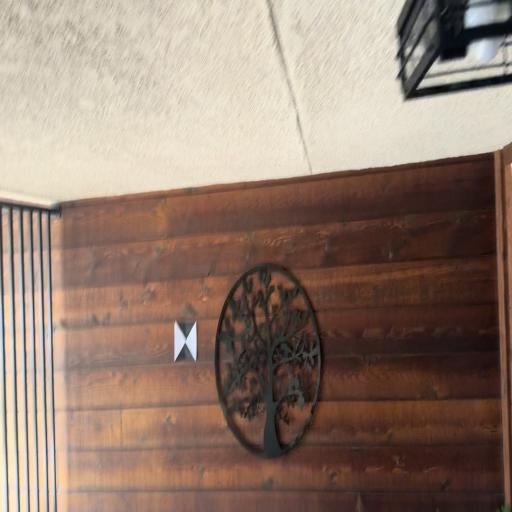target: (174, 322, 198, 361)
